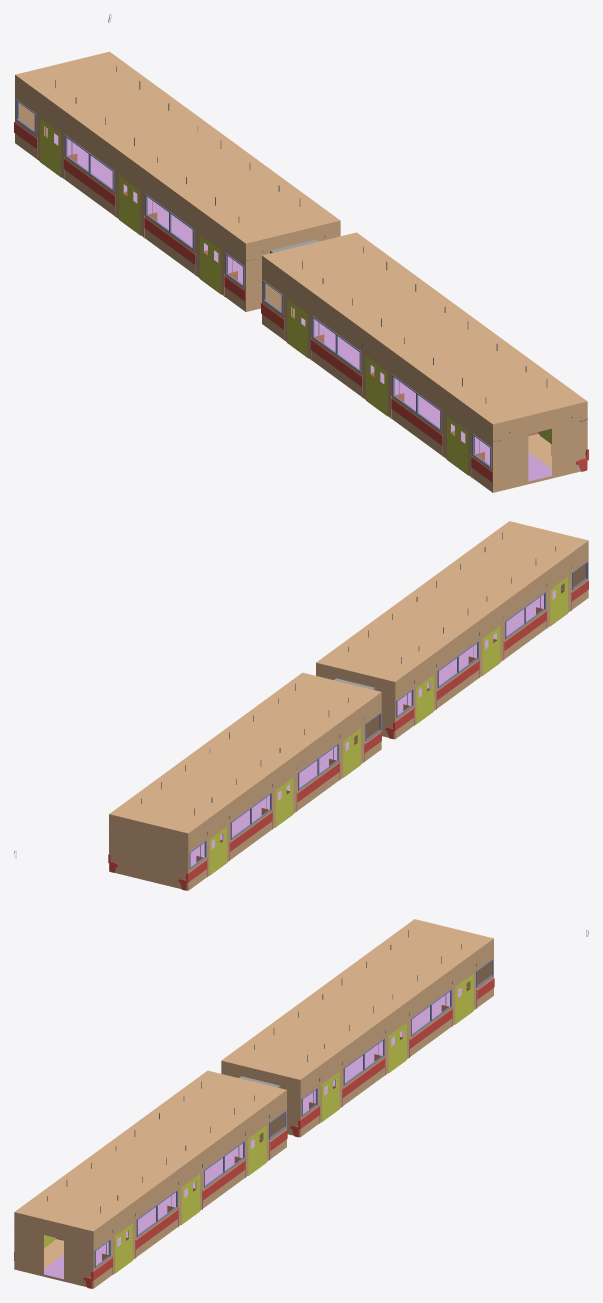
The model's file is TrenBien.fbx.
3 renders of one model, top to bottom at view 1: azimuth 30°, elevation 25°; view 2: azimuth 150°, elevation 25°; view 3: azimuth 330°, elevation 25°, orthographic. The views are drawn at different scales.
Parts seen in each view (by area): view 1: Vagon.001, Vagon, Puerta lateral.002, Puerta lateral.011, Puerta lateral.012, Puerta lateral.003, Puerta lateral.010, Puerta lateral.001; view 2: Vagon, Vagon.001, Puerta lateral.011, Puerta lateral.002, Puerta lateral.003, Puerta lateral.001, Puerta lateral.012, Puerta lateral.010; view 3: Vagon.001, Vagon, Puerta lateral.006, Puerta lateral.009, Puerta lateral.005, Puerta lateral.004, Puerta lateral.008, Puerta lateral.007.
Boxes of the visible parts, x1,y1,x2,y2 form: Vagon.001: (262,232,587,492); Vagon: (15,51,340,311); Puerta lateral.002: (119,175,140,235); Puerta lateral.011: (366,356,387,416); Puerta lateral.012: (286,299,308,358); Puerta lateral.003: (199,235,221,294); Puerta lateral.010: (446,416,468,475); Puerta lateral.001: (39,118,61,177); Vagon: (109,672,381,890); Vagon.001: (316,521,588,739); Puerta lateral.011: (482,626,500,675); Puerta lateral.002: (275,777,293,827); Puerta lateral.003: (342,728,360,778); Puerta lateral.001: (209,826,226,875); Puerta lateral.012: (415,675,433,724); Puerta lateral.010: (549,577,567,626); Vagon.001: (14,1070,286,1288); Vagon: (221,919,493,1137); Puerta lateral.006: (321,1072,339,1122); Puerta lateral.009: (248,1126,266,1175); Puerta lateral.005: (388,1023,406,1073); Puerta lateral.004: (455,974,473,1024); Puerta lateral.008: (181,1174,199,1224); Puerta lateral.007: (114,1224,132,1273).
Size of the model in its own units: 4816 by 2334 by 29162.
